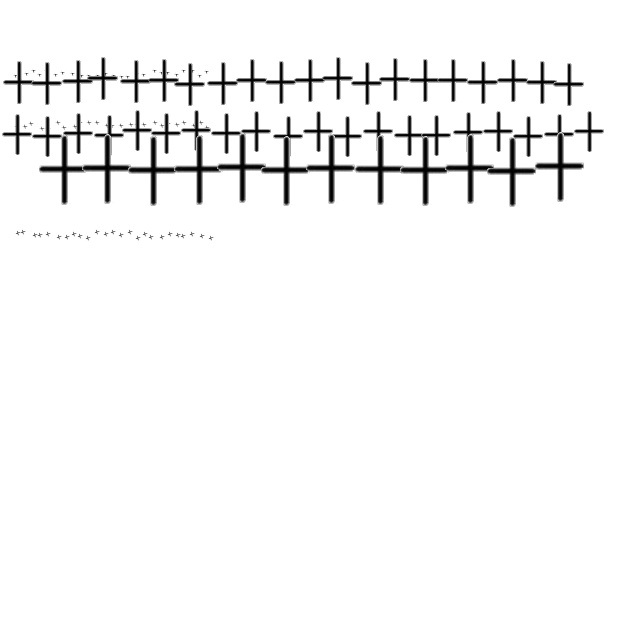double: (78, 134, 134, 206), (124, 136, 180, 208), (302, 134, 358, 206), (396, 136, 452, 208), (170, 136, 226, 206), (258, 136, 312, 208), (442, 134, 496, 206), (532, 132, 586, 204), (36, 136, 90, 206), (214, 134, 268, 204), (352, 136, 406, 206), (484, 138, 538, 208), (1, 61, 35, 105), (29, 62, 63, 106), (60, 60, 94, 104), (85, 57, 119, 101), (118, 60, 152, 104), (146, 59, 180, 103), (172, 63, 206, 107), (205, 62, 239, 106), (234, 59, 268, 103), (263, 61, 297, 105), (292, 59, 326, 103), (320, 57, 354, 101), (349, 62, 383, 106), (377, 58, 411, 102), (407, 59, 441, 103), (435, 59, 469, 103), (465, 61, 499, 105), (495, 59, 529, 103), (524, 61, 558, 105), (551, 63, 585, 107), (0, 114, 34, 156), (30, 116, 64, 158), (92, 115, 126, 157), (120, 110, 154, 152), (330, 116, 364, 158), (392, 115, 426, 157), (542, 114, 576, 156), (572, 111, 606, 153), (62, 113, 94, 155), (150, 113, 182, 155), (180, 110, 212, 152), (210, 113, 242, 155), (240, 111, 272, 153), (272, 116, 304, 158), (302, 111, 334, 153), (362, 111, 394, 153), (420, 115, 452, 157), (452, 112, 484, 154), (482, 111, 514, 153), (512, 116, 544, 158), (44, 68, 50, 74), (60, 70, 66, 76), (152, 68, 158, 74), (174, 72, 180, 78), (190, 68, 196, 74), (14, 124, 20, 130), (22, 124, 28, 130), (39, 126, 45, 132), (45, 126, 51, 132), (55, 120, 61, 126), (72, 124, 78, 130), (77, 120, 83, 126), (86, 120, 92, 126), (94, 120, 100, 126), (128, 122, 134, 128), (134, 122, 140, 128), (141, 122, 147, 128), (152, 120, 158, 126), (174, 122, 180, 128), (181, 120, 187, 126), (198, 120, 204, 126), (15, 230, 21, 236), (20, 229, 26, 235), (32, 232, 38, 238), (37, 232, 43, 238), (45, 231, 51, 237), (56, 234, 62, 240), (64, 234, 70, 240), (71, 231, 77, 237), (77, 233, 83, 239), (85, 235, 91, 241), (94, 229, 100, 235), (103, 231, 109, 237), (110, 229, 116, 235), (118, 232, 124, 238), (127, 229, 133, 235), (135, 235, 141, 241), (142, 231, 148, 237), (148, 234, 154, 240), (159, 234, 165, 240), (167, 231, 173, 237), (175, 232, 181, 238), (180, 233, 186, 239), (189, 231, 195, 237), (199, 233, 205, 239), (208, 235, 214, 241), (24, 72, 30, 76), (32, 68, 36, 74), (38, 72, 42, 78), (54, 72, 58, 78), (70, 72, 76, 76), (86, 74, 92, 78), (120, 74, 124, 80), (126, 74, 130, 80), (134, 72, 140, 76), (142, 72, 146, 78), (160, 70, 164, 76), (166, 70, 170, 76), (182, 68, 186, 74), (204, 70, 210, 74), (28, 122, 34, 126), (61, 126, 67, 130), (104, 124, 110, 128), (109, 124, 115, 128), (118, 124, 124, 128), (159, 124, 165, 128), (165, 122, 171, 126), (191, 124, 197, 128), (204, 126, 210, 130), (14, 74, 18, 78), (80, 74, 84, 78), (96, 74, 100, 78), (104, 72, 108, 76), (112, 74, 116, 78), (198, 74, 202, 78)
